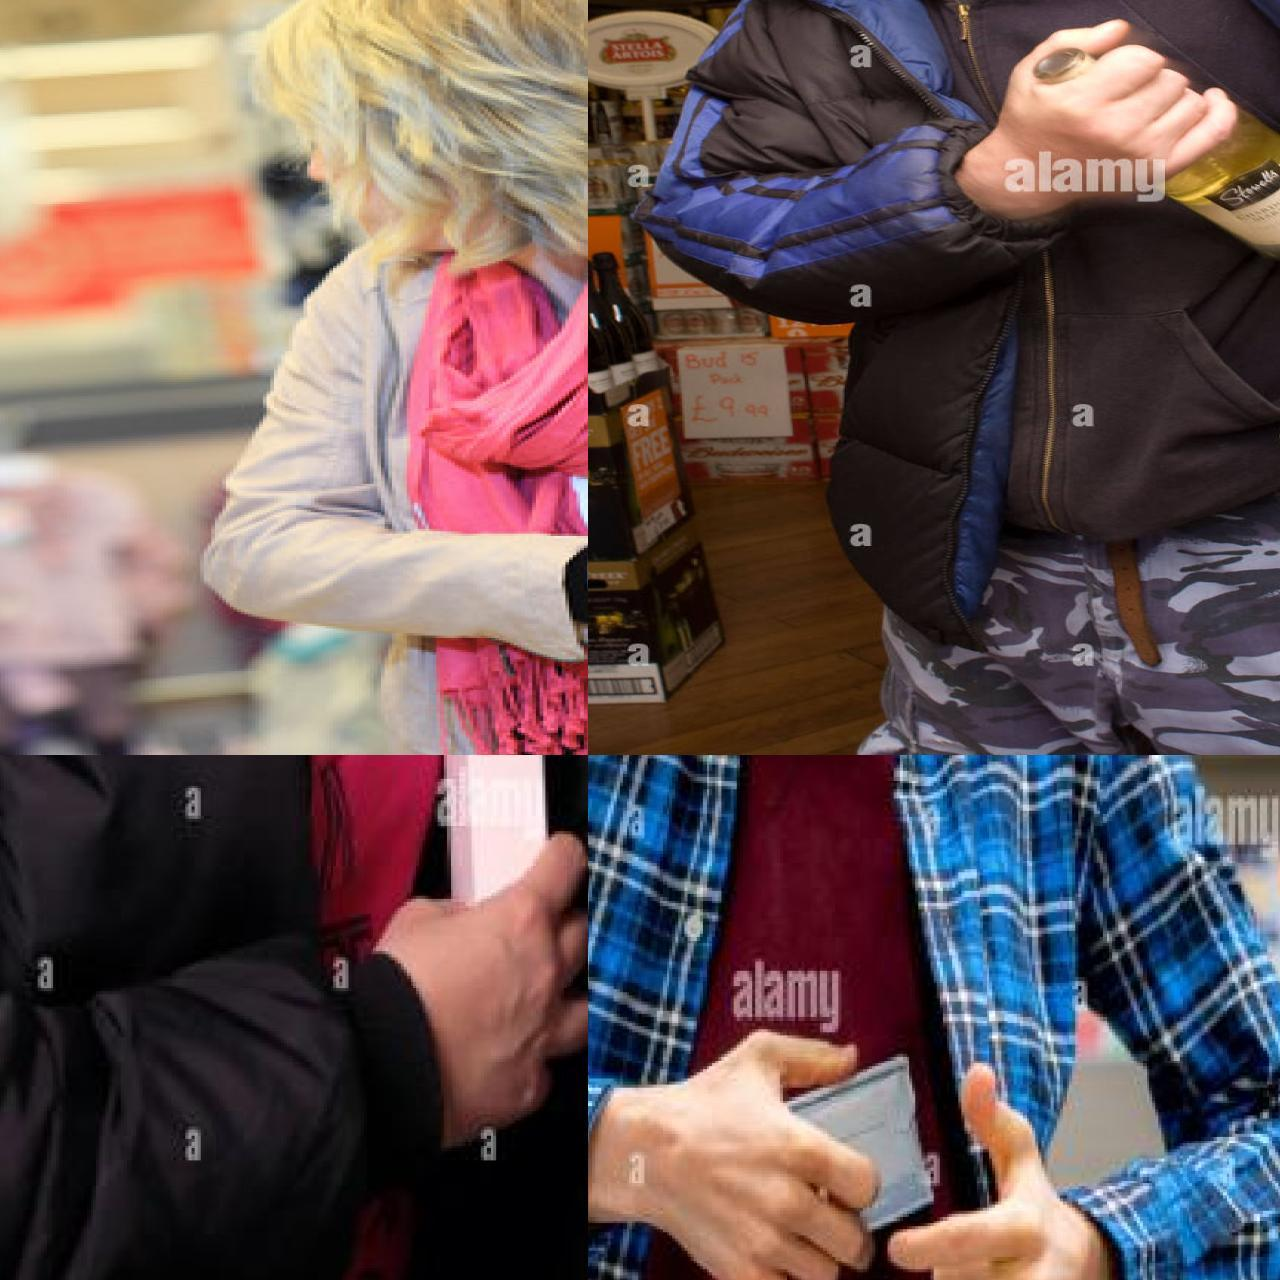Shoplifting: (63, 0, 588, 755), (588, 0, 1280, 493), (588, 755, 1143, 1280), (166, 755, 588, 1280)
